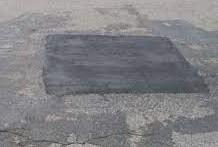crack: (4, 119, 163, 146)
